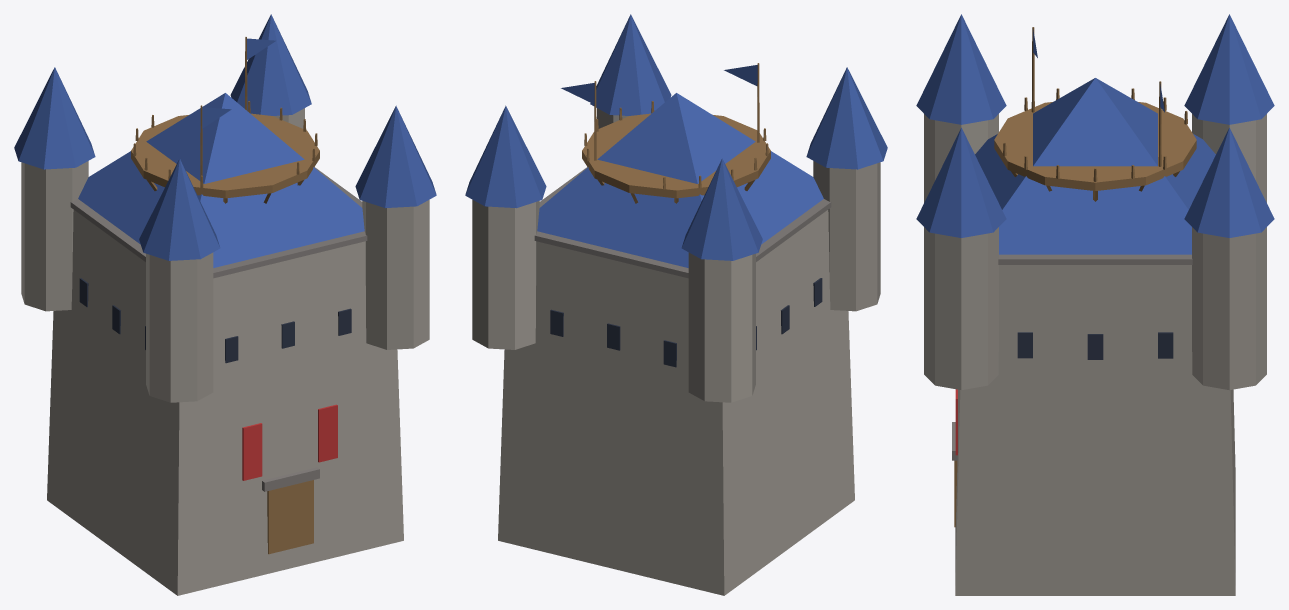
The model's file is castle.glb.
3 views of the same model, side by side, from view 1: azimuth 30°, elevation 25°; view 2: azimuth 150°, elevation 25°; view 3: azimuth 270°, elevation 25° (orthographic). The views are drawn at different scales.
Visible parts, largest first — view 1: Castle_Keep, Castle_Eyrie; view 2: Castle_Keep, Castle_Eyrie; view 3: Castle_Keep, Castle_Eyrie.
Boxes of the visible parts, bbox=[...] form: Castle_Keep: bbox=[14, 14, 436, 595]; Castle_Eyrie: bbox=[131, 37, 319, 203]; Castle_Keep: bbox=[465, 14, 887, 595]; Castle_Eyrie: bbox=[561, 63, 770, 203]; Castle_Keep: bbox=[916, 14, 1274, 595]; Castle_Eyrie: bbox=[994, 27, 1196, 201].
Bounding box in the file's own units: 23 × 34.1 × 23.
